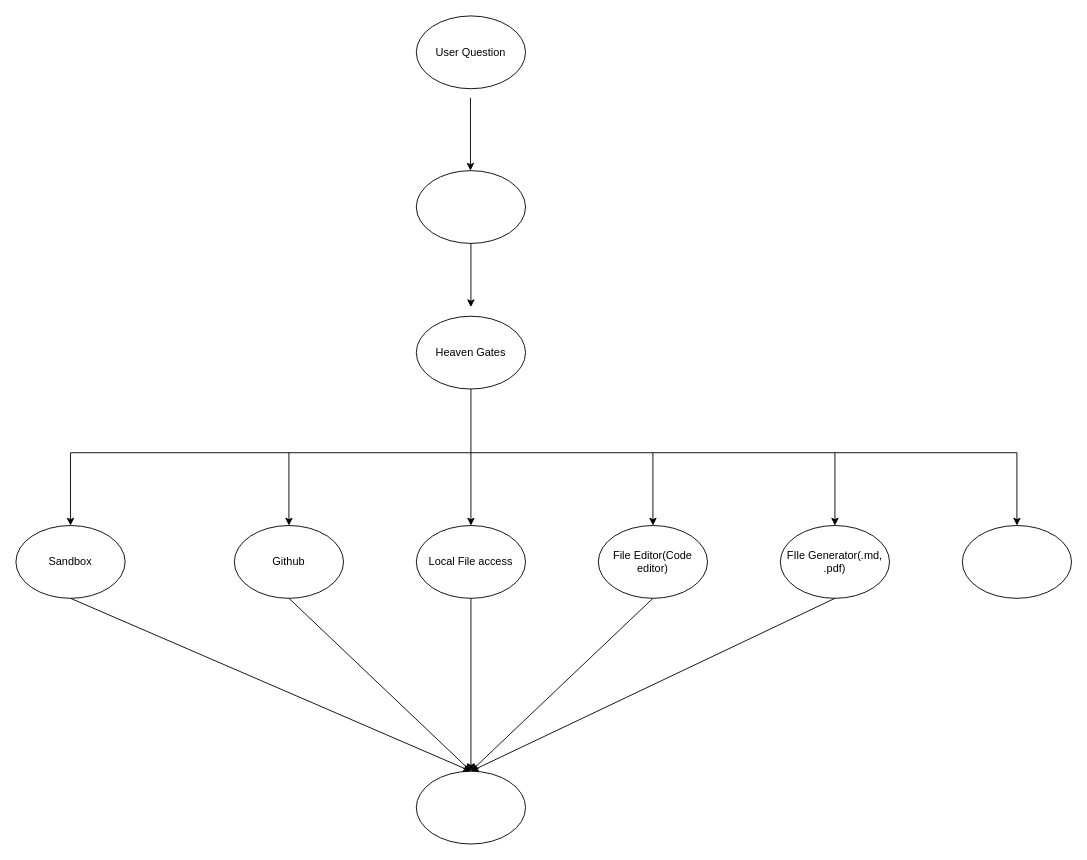
The diagram is 1087 pixels wide and 860 high, and some of its shapes have lost their labels. The shapes that lost their labels are listed below. From the top down, each one's box as (x1, y1, x2, y2) in pixels, then its label:
(415, 170, 526, 243): Context from chats
(415, 770, 526, 844): Store the context
